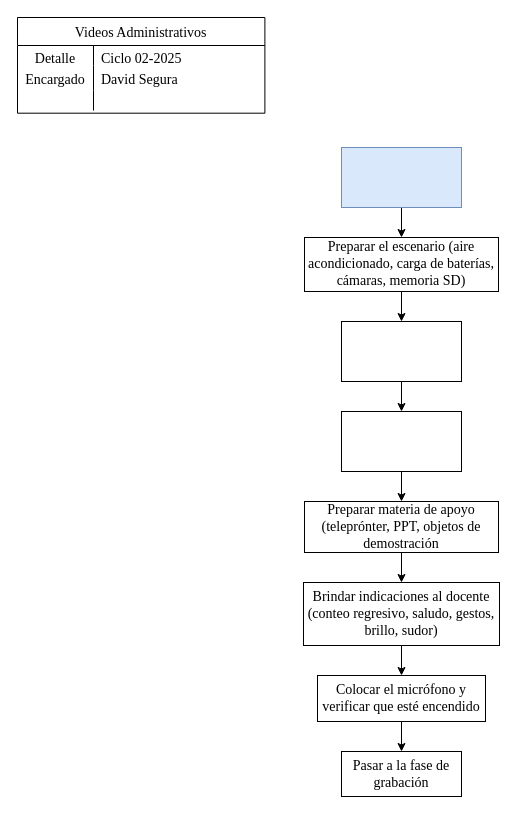
Some shapes in this 517 by 814 pixel diagram are drawn without their labels. Here are the shapes that lost their labels. From the top down, the box of each, then its label:
(340, 146, 462, 208): Videos Administrativos - Preproducción
(340, 320, 462, 382): Verificar que la memoria SD tenga espacio suficiente
(340, 410, 462, 472): Recibir a la persona que grabará el video
